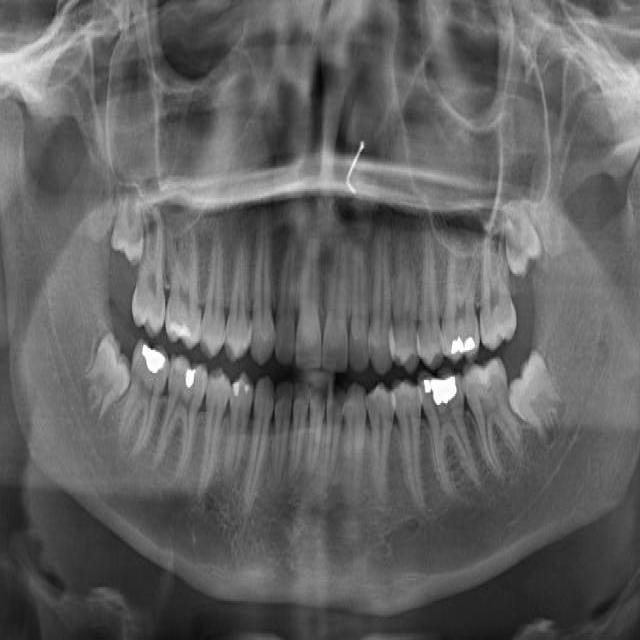dolgu: (417, 360, 462, 418), (135, 330, 171, 384), (444, 317, 481, 369), (228, 360, 255, 416), (171, 355, 201, 395)
